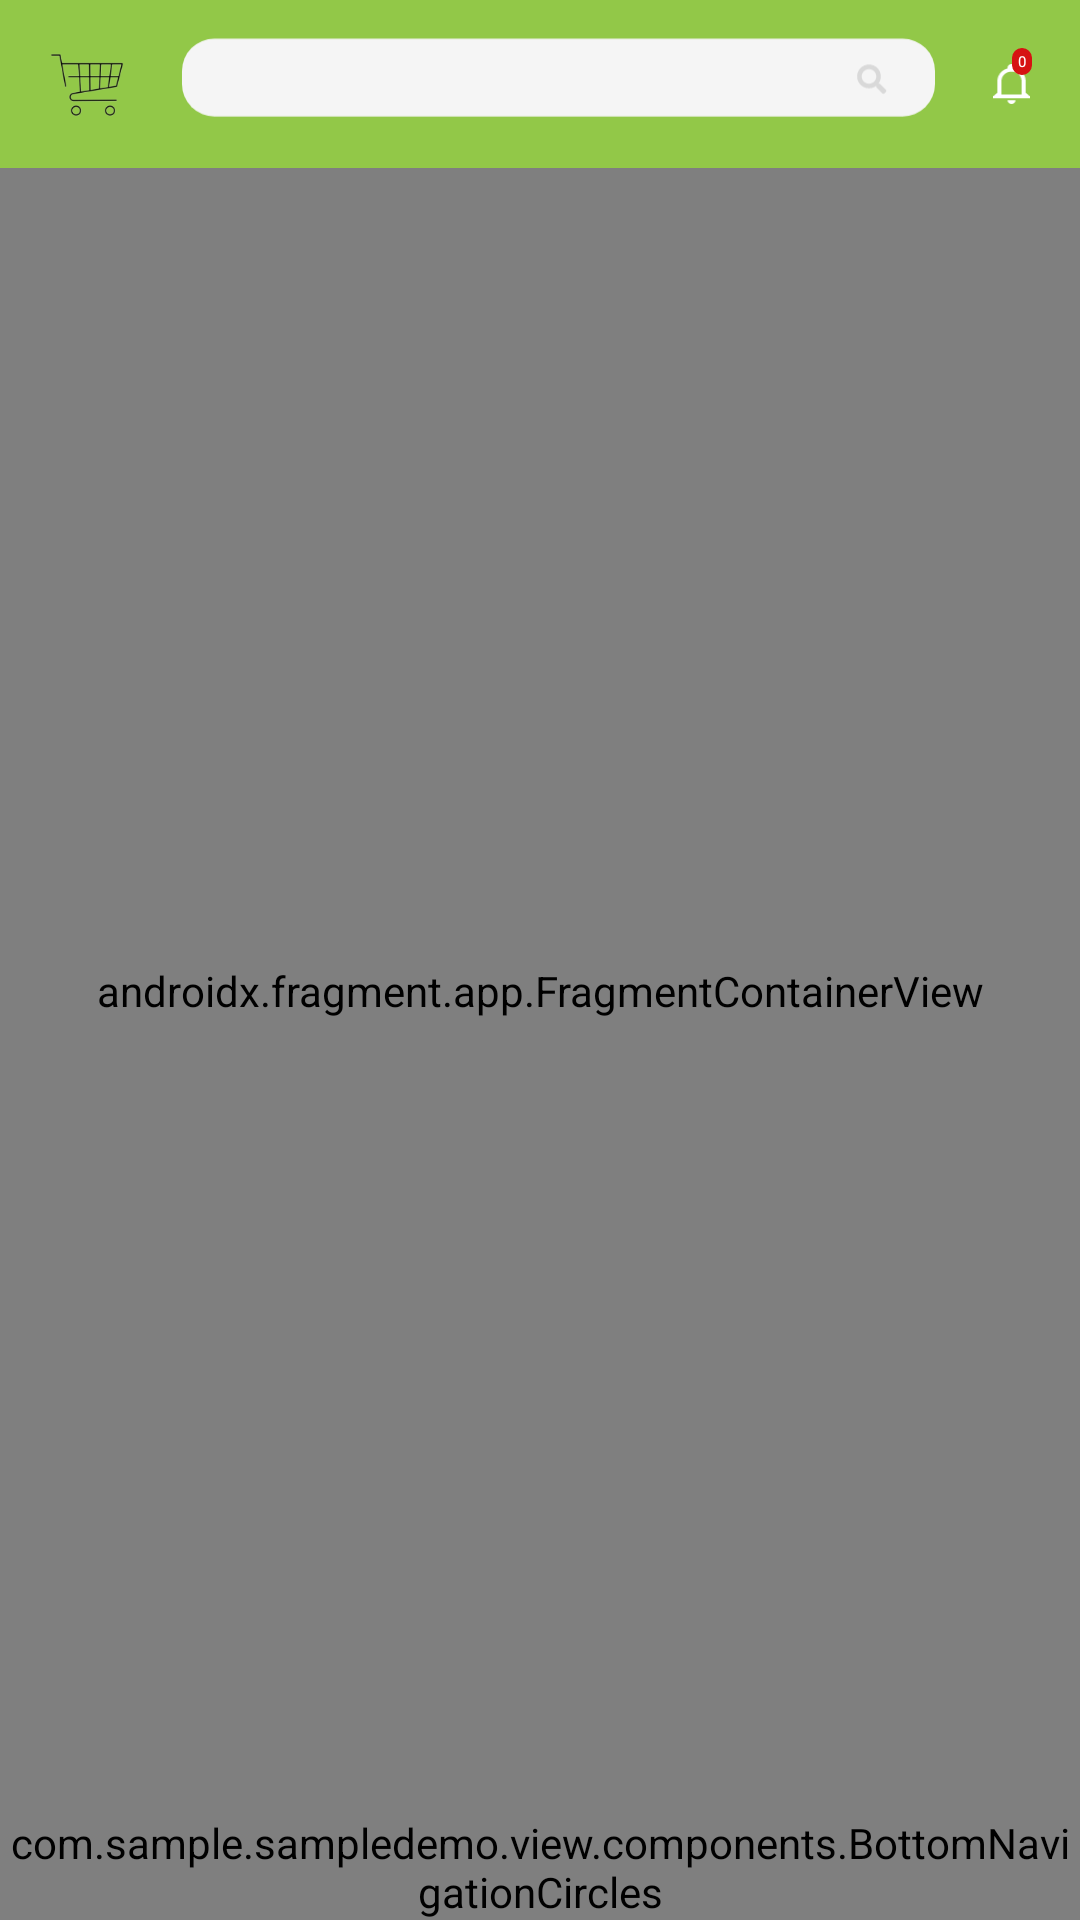

Locate icon controls on the screen. Image size 1080px×1920px, boxes as (x1, y1, x2, y2).
notification: (993, 64, 1032, 104)
